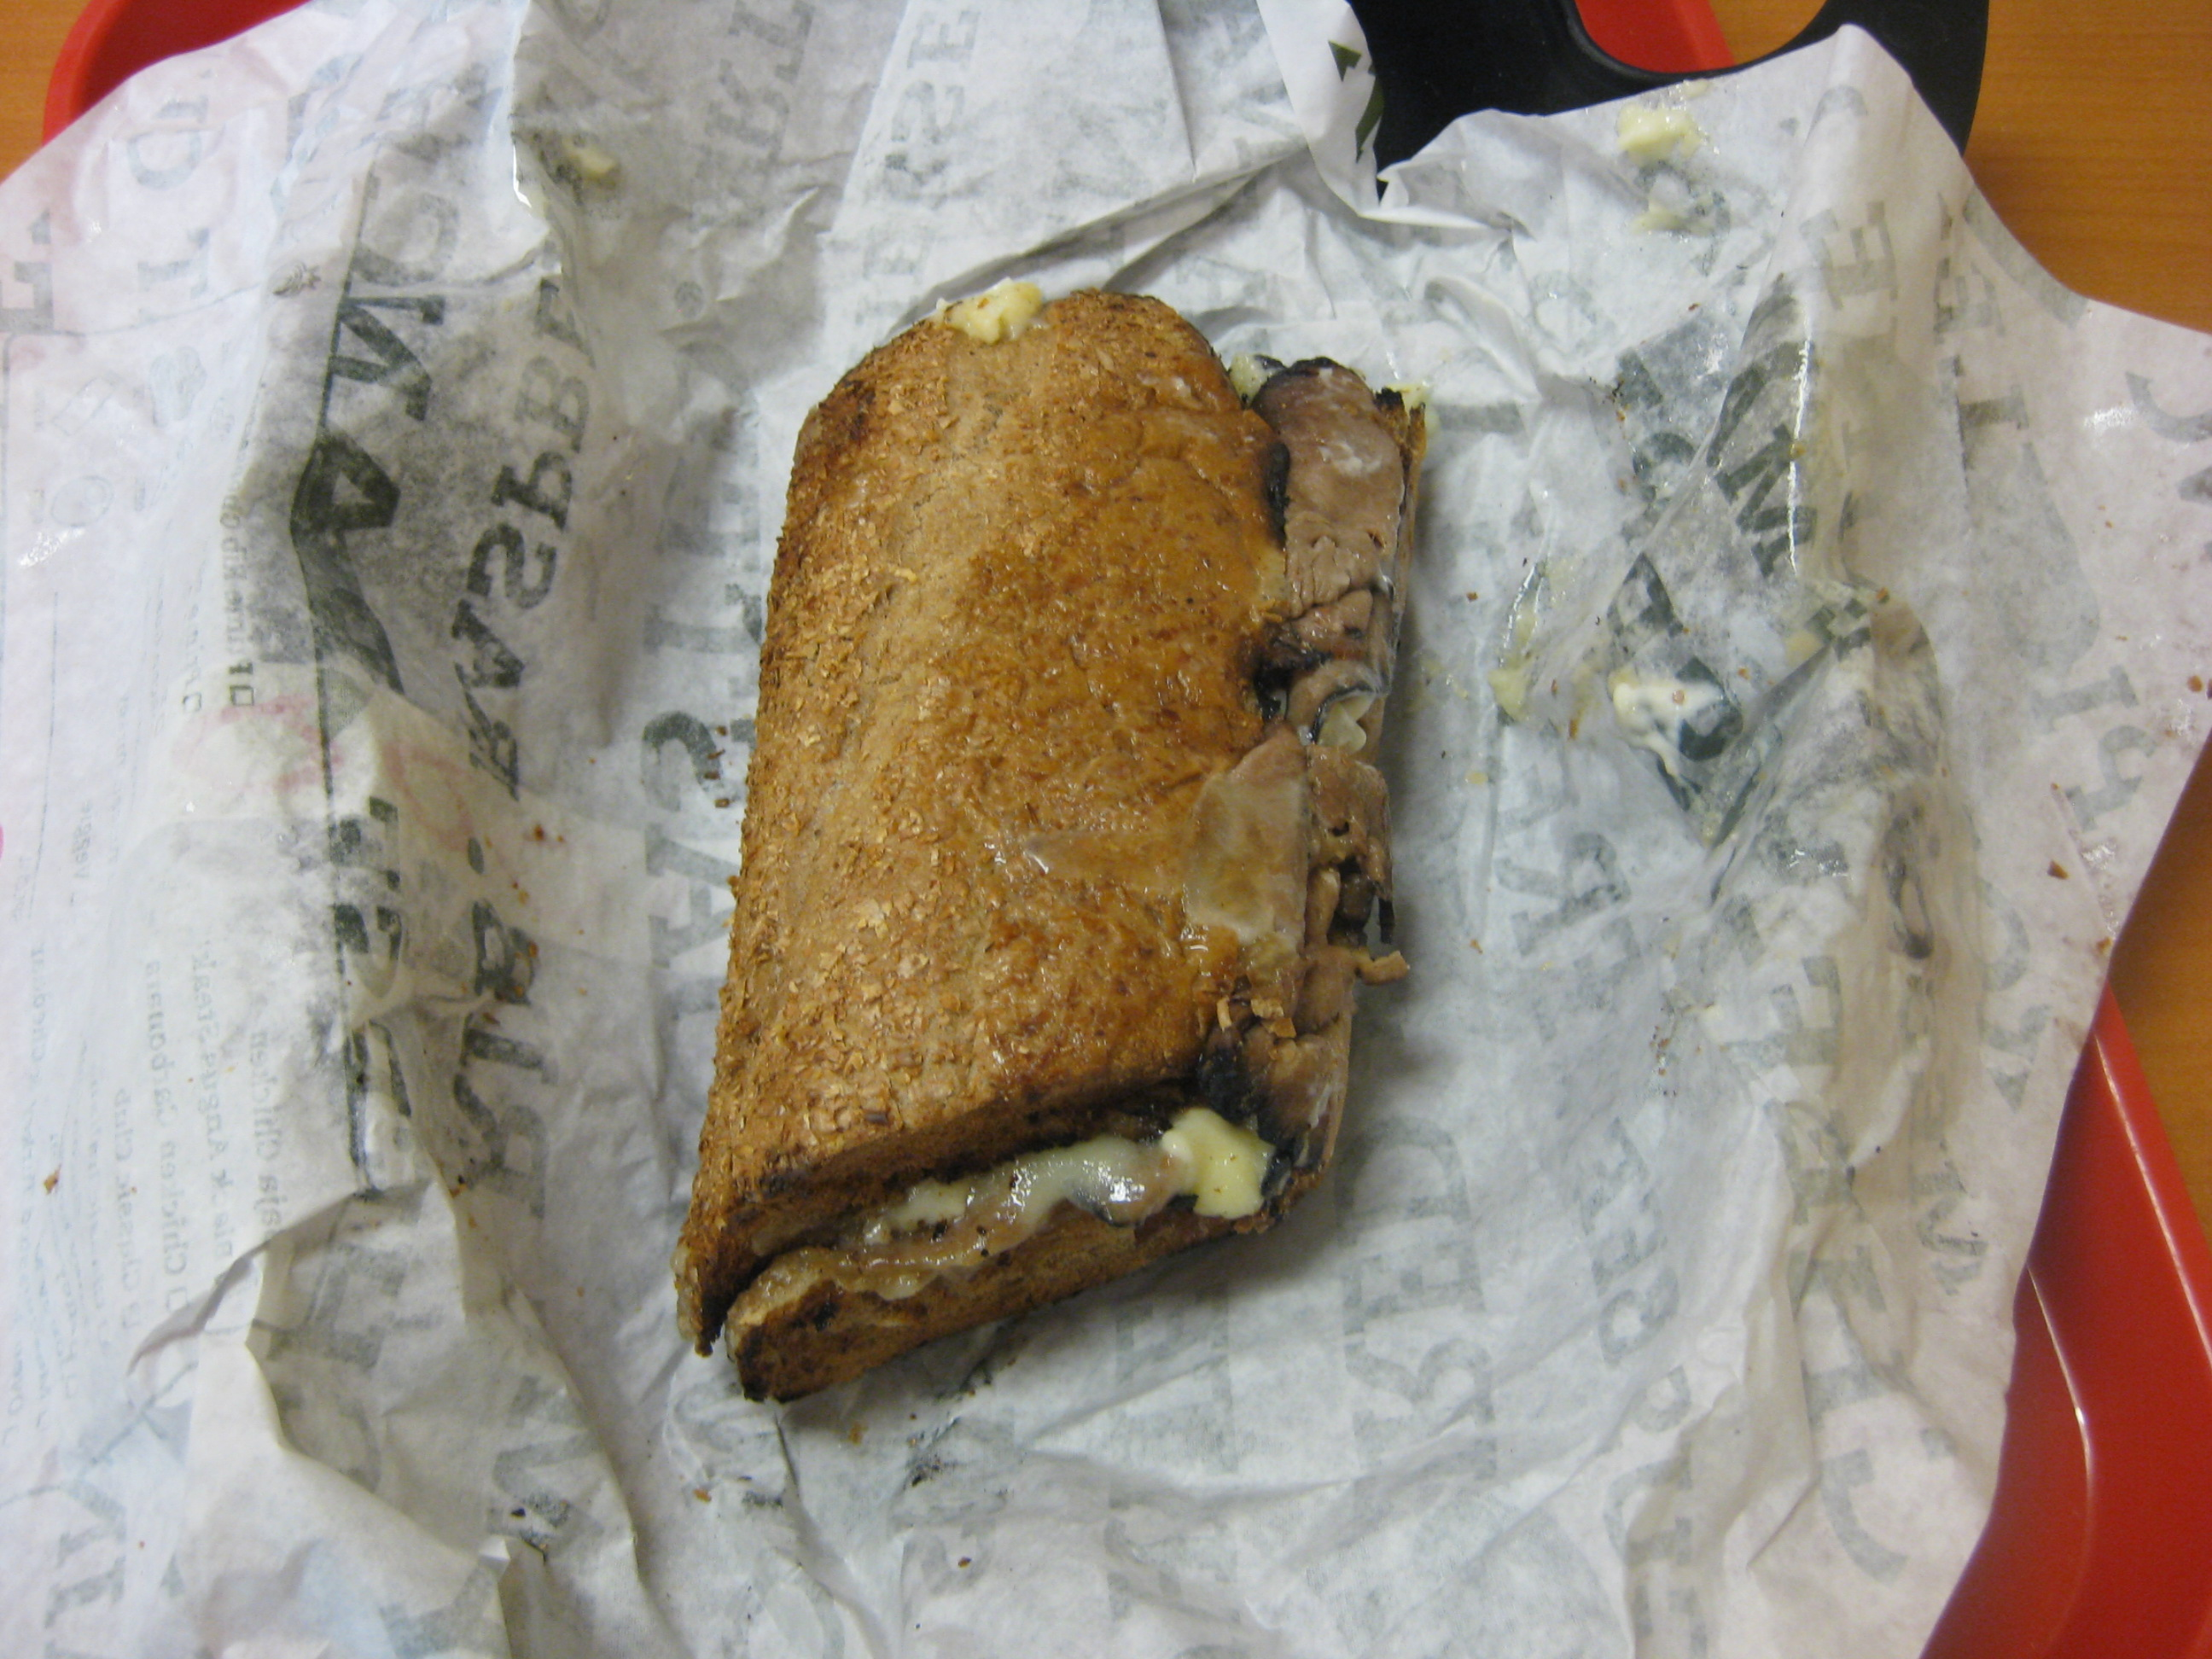sub: (707, 285, 1406, 1368)
